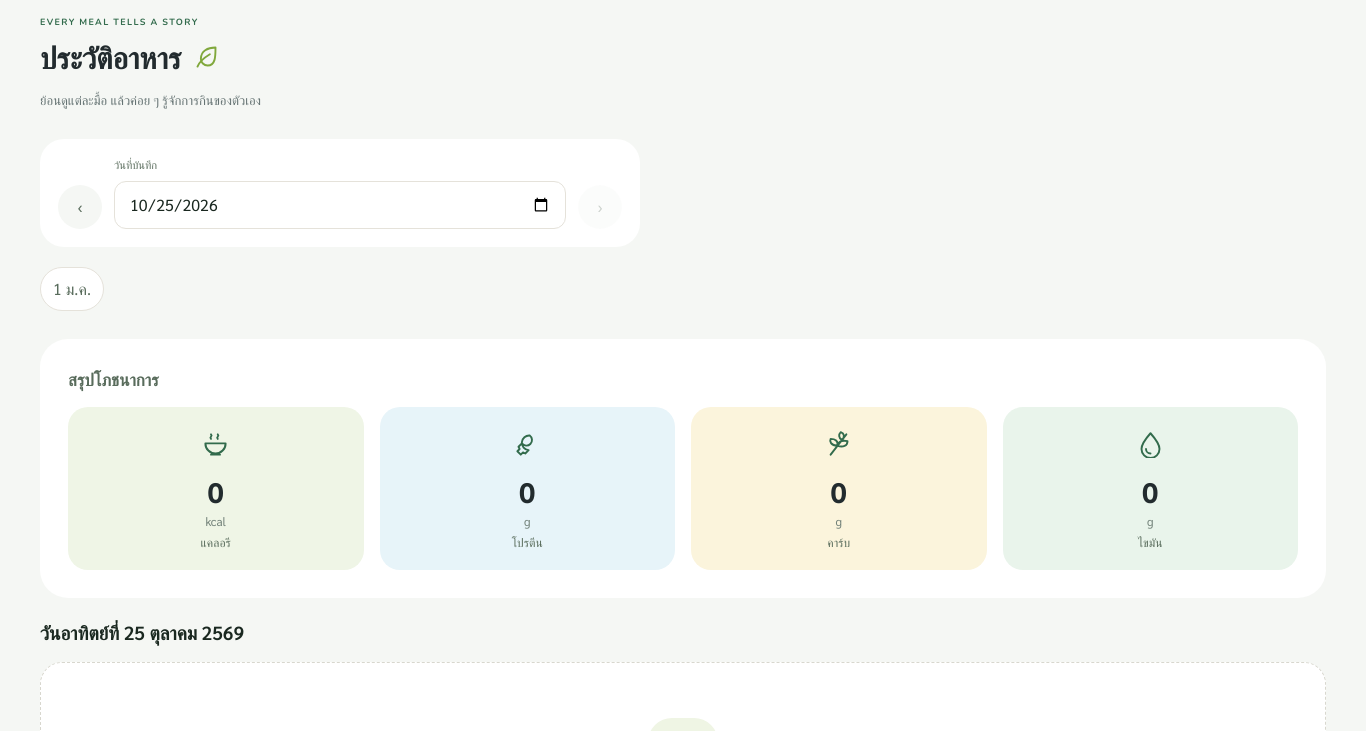
it: nutrition units and complete editing › opens history editor and follows changed date
Step 1. Type "2026-01-01" into the date field labelled "วันที่บันทึก" → (340, 205), box [114,181,566,229]
(page scrolled)
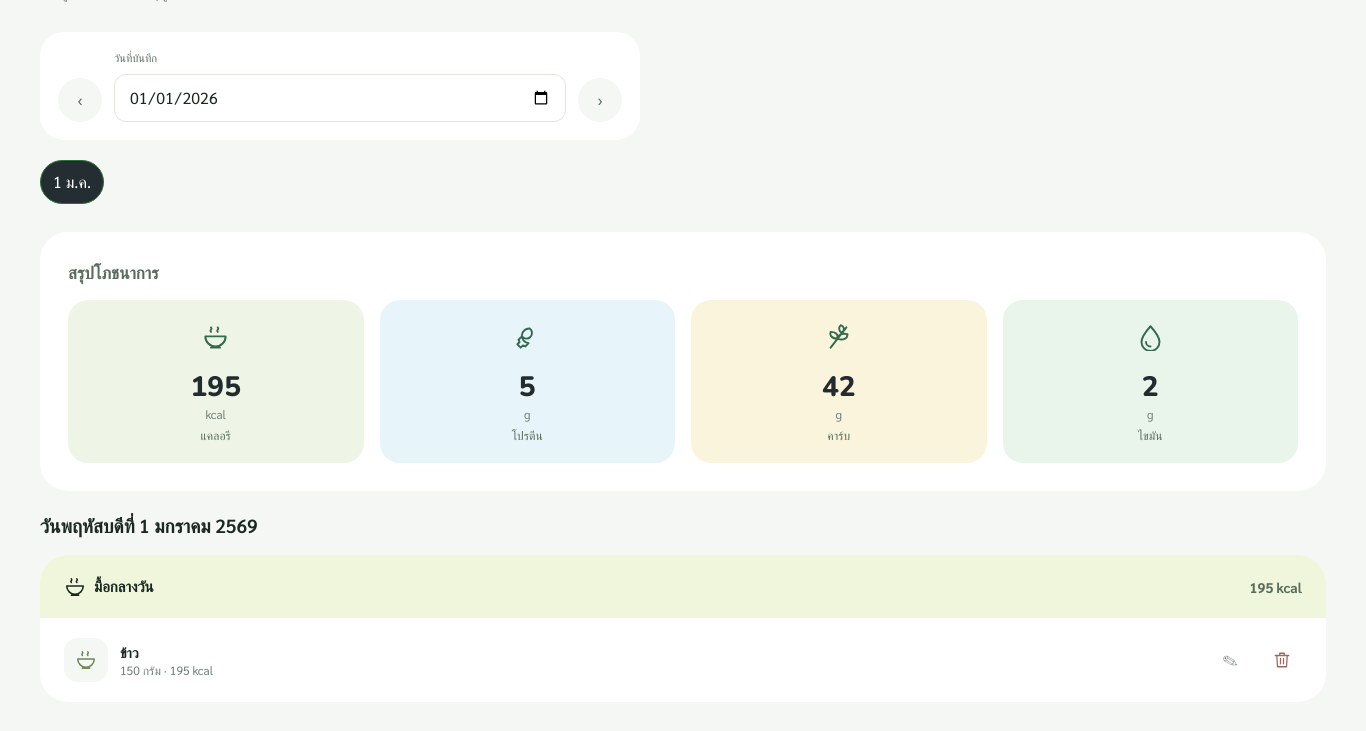
Step 2. Click the button named "แก้ไข ข้าว" → (1230, 660), box [1210,638,1250,682]
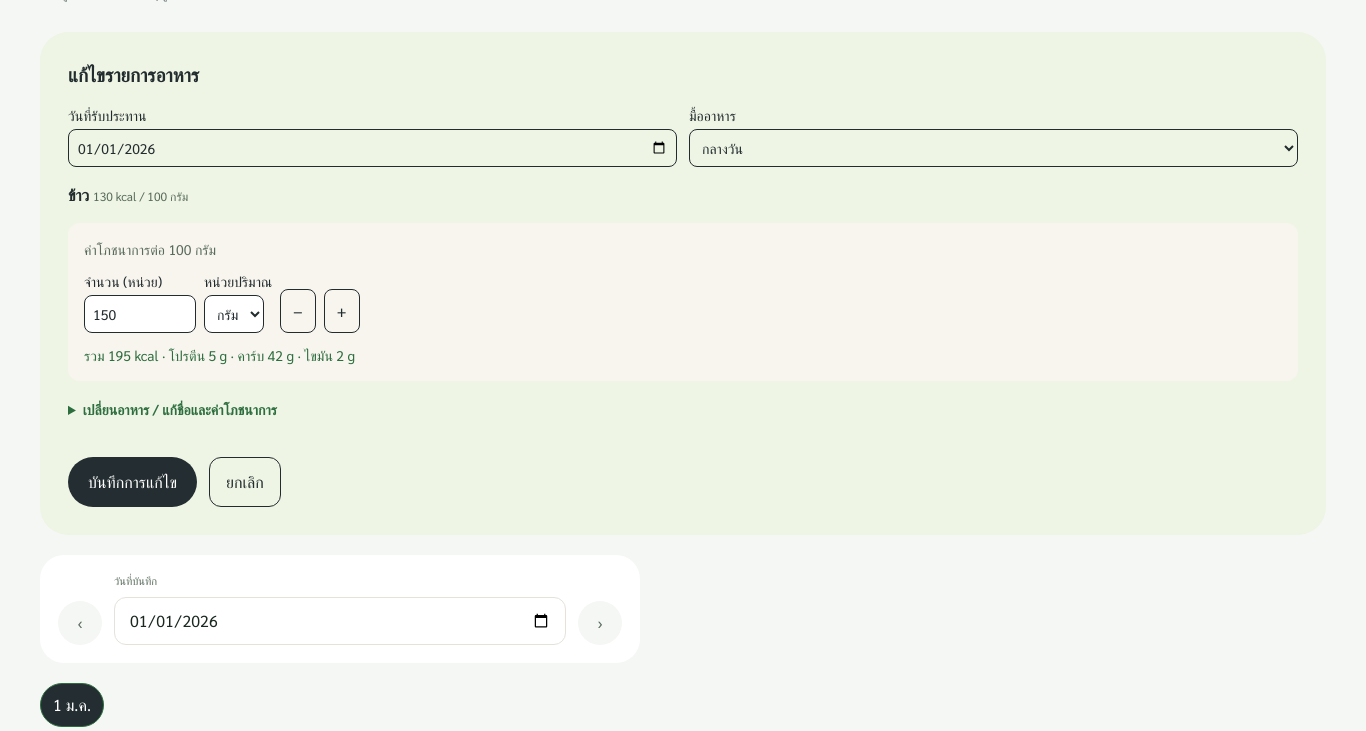
Step 3. Type "2026-01-02" into the date field labelled "วันที่รับประทาน" → (372, 148), box [68,129,677,167]
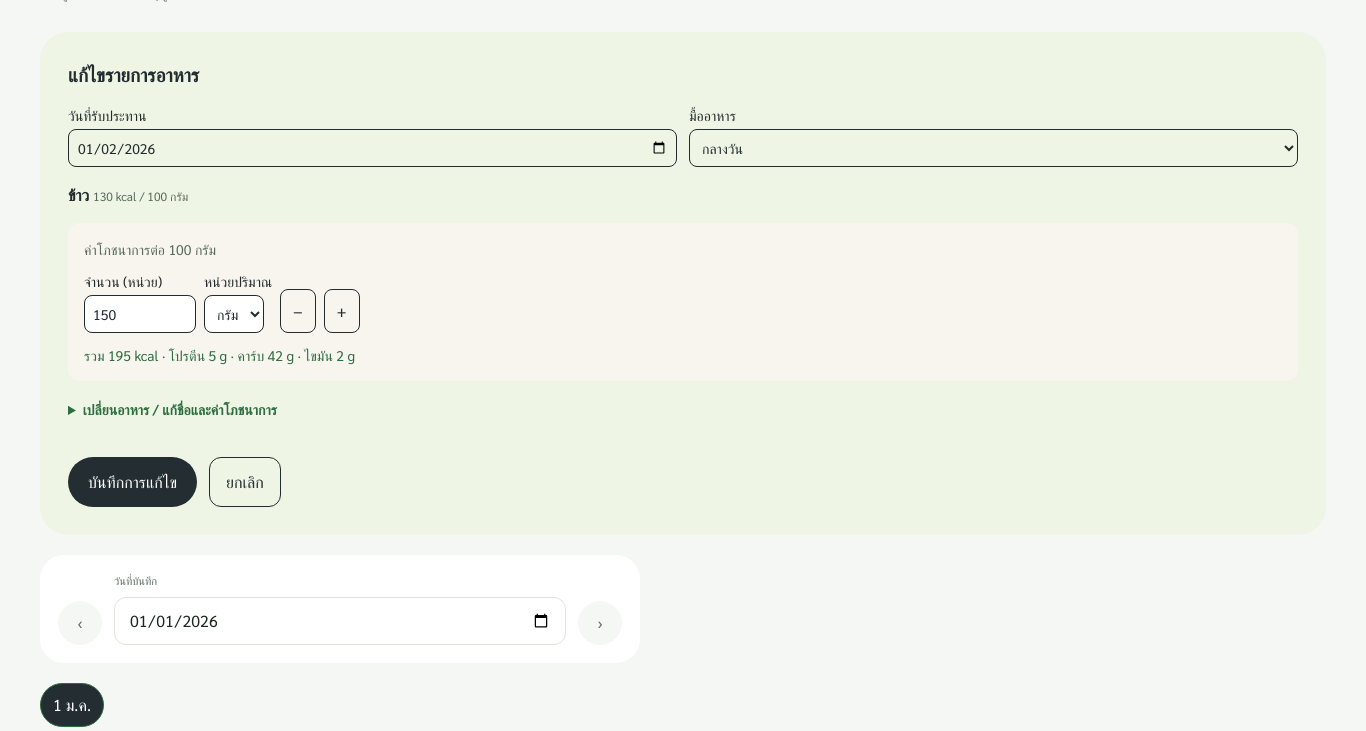
Step 4. Click the button "บันทึกการแก้ไข" → (133, 482), box [68,457,197,507]
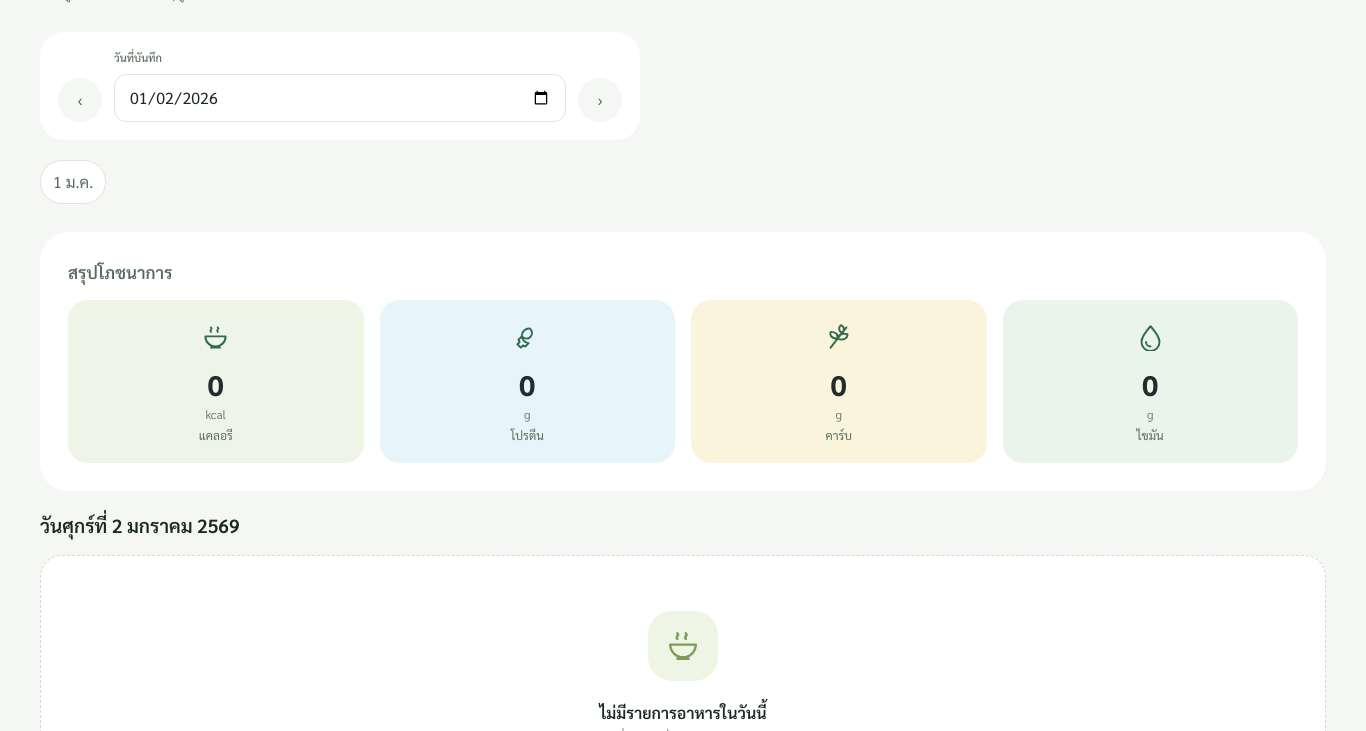
expect the heading "แก้ไขรายการอาหาร" is gone: met
expect the date field labelled "วันที่บันทึก" holds "2026-01-02": met, box [114,74,566,122]
